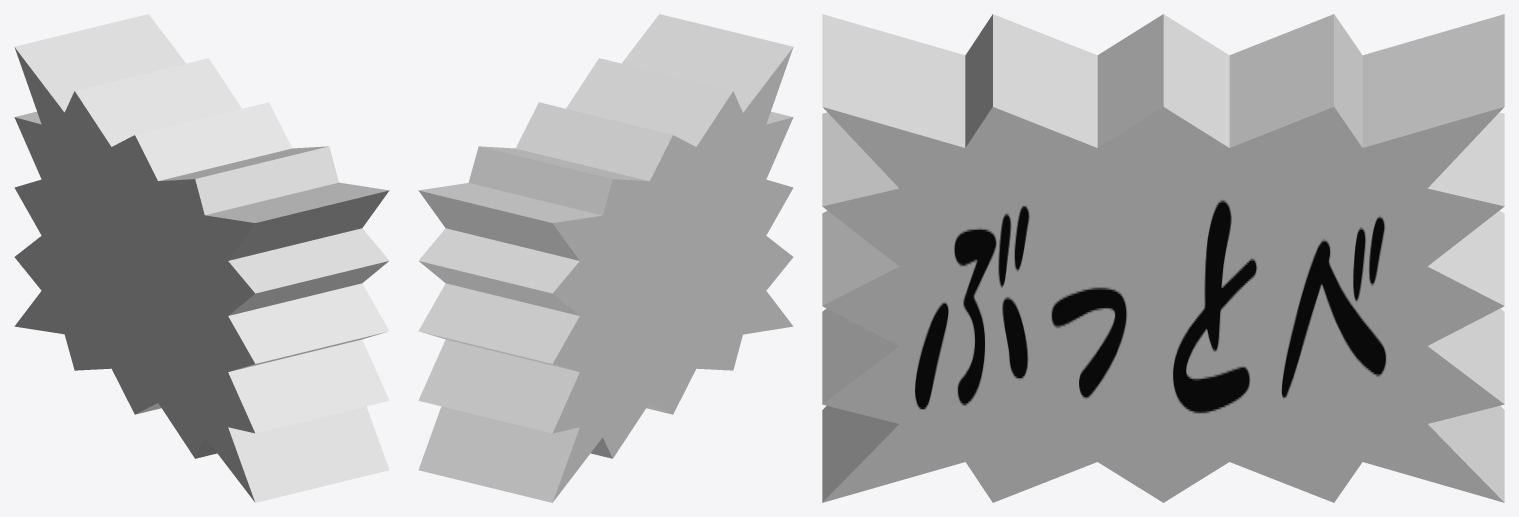
The model's file is buttobe.fbx.
3 renders of one model, left to right at view 1: azimuth 30°, elevation 25°; view 2: azimuth 150°, elevation 25°; view 3: azimuth 270°, elevation 25°, orthographic. The views are drawn at different scales.
Parts seen in each view (by area): view 1: Cube; view 2: Cube; view 3: Cube.
Boxes of the visible parts, <box> form: Cube: <box>14,14,389,502</box>; Cube: <box>418,14,793,502</box>; Cube: <box>822,14,1504,502</box>.
Bounding box in the file's own units: 200 × 398 × 622.
